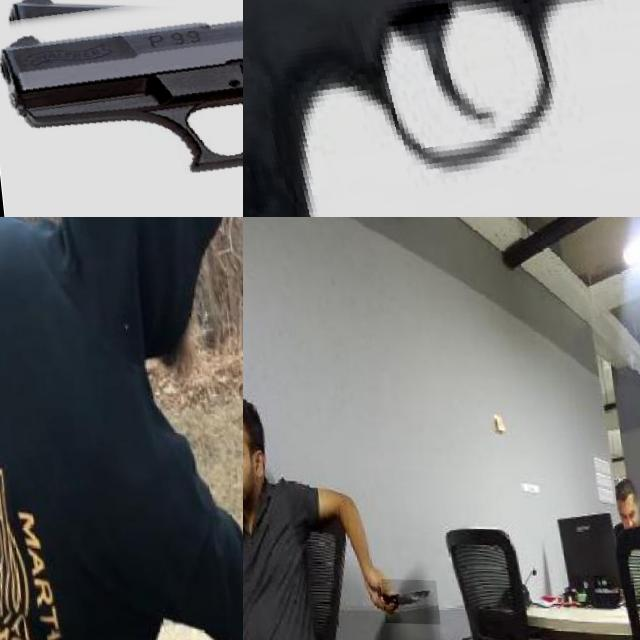-: (371, 578, 430, 622)
gun-knife-thesis - v11 Yolov5 augmented: (243, 0, 640, 217), (0, 0, 243, 217), (83, 0, 243, 77)
